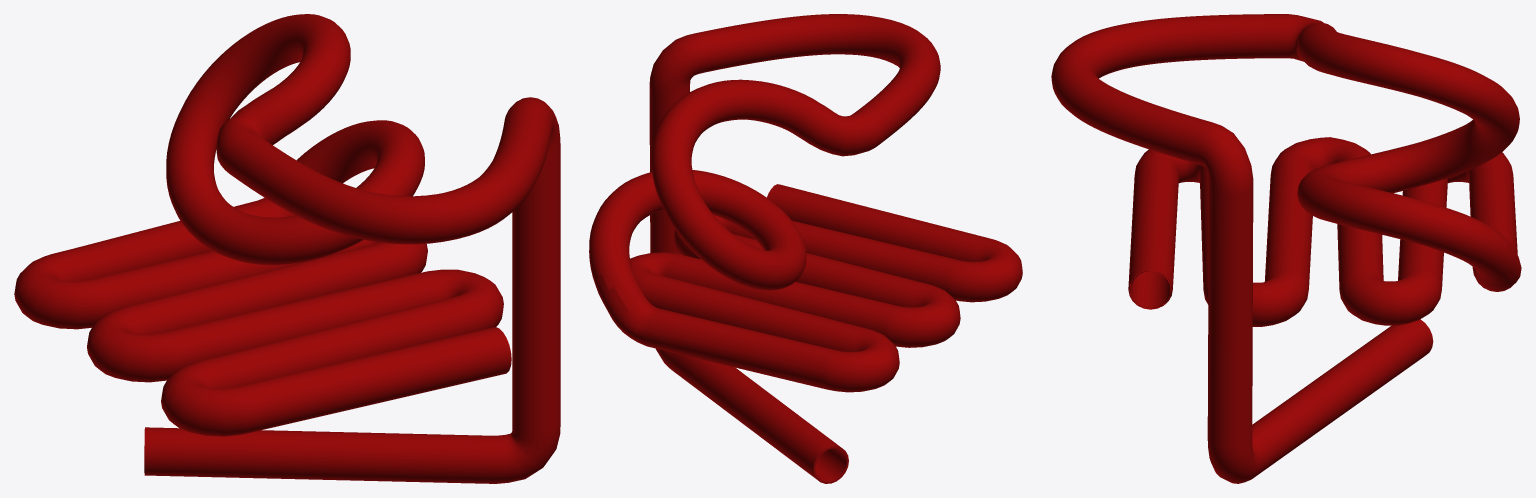
The model's file is Chang3.fbx.
3 views of the same model, side by side, from view 1: azimuth 30°, elevation 25°; view 2: azimuth 150°, elevation 25°; view 3: azimuth 270°, elevation 25° (orthographic). The views are drawn at different scales.
Parts seen in each view (by area): view 1: polySurface390; view 2: polySurface390; view 3: polySurface390.
Part boxes in pixels (box(x1,y1,x2,y2)): polySurface390: box(14, 14, 560, 483); polySurface390: box(589, 14, 1022, 483); polySurface390: box(1051, 14, 1521, 483).
Bounding box in the file's own units: 35.47 × 34.81 × 38.15.
